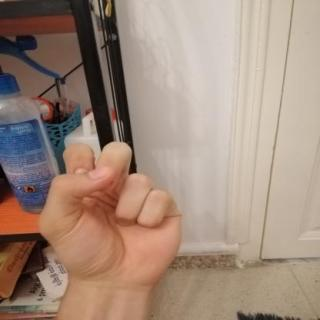QAAF: (23, 136, 199, 296)
